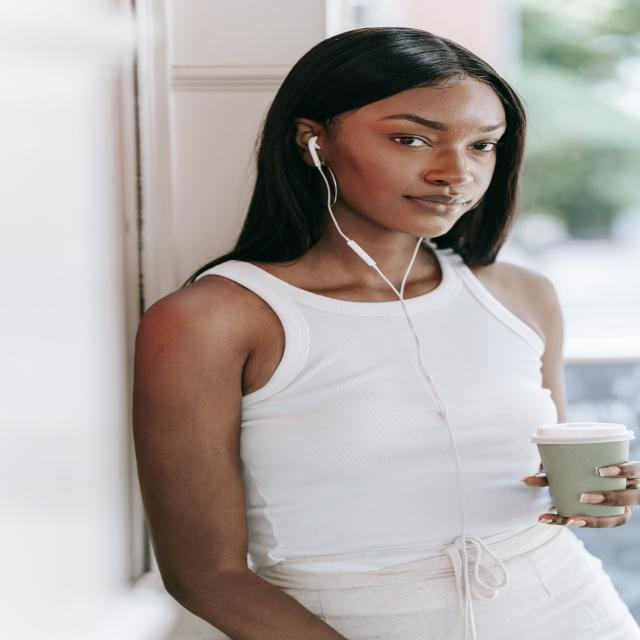cup: (532, 424, 636, 527)
